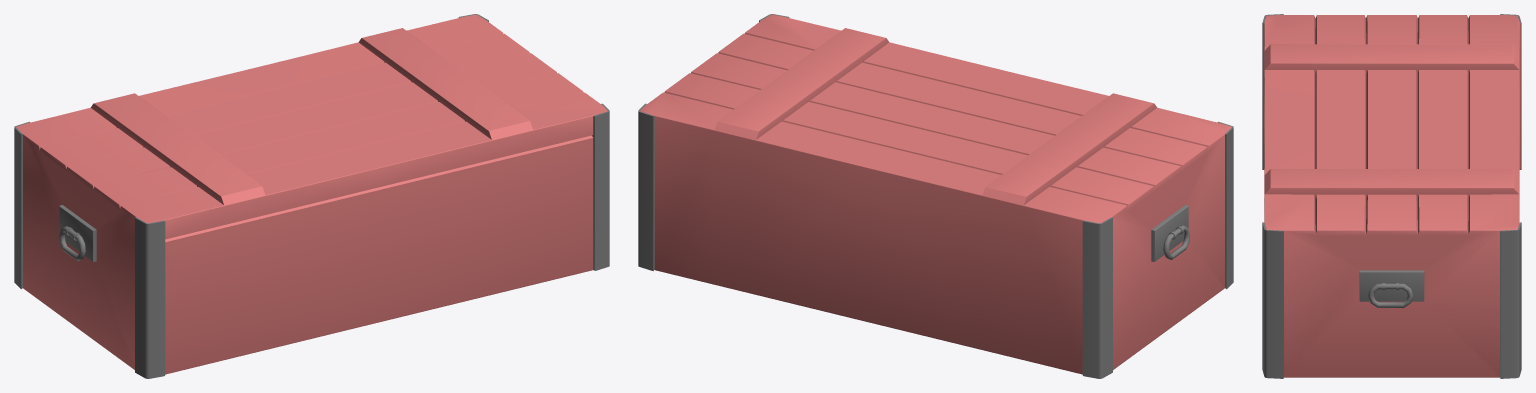
File: SM_CaisseRectangle.fbx
3 renders of one model, left to right at view 1: azimuth 30°, elevation 25°; view 2: azimuth 150°, elevation 25°; view 3: azimuth 270°, elevation 25°, orthographic. The views are drawn at different scales.
Visible parts, largest first — view 1: Box093; view 2: Box093; view 3: Box093.
Boxes of the visible parts, x1,y1,x2,y2 form: Box093: (14,14,609,378); Box093: (638,14,1233,378); Box093: (1262,14,1521,378).
Bounding box in the file's own units: 183 × 58.32 × 88.85.
